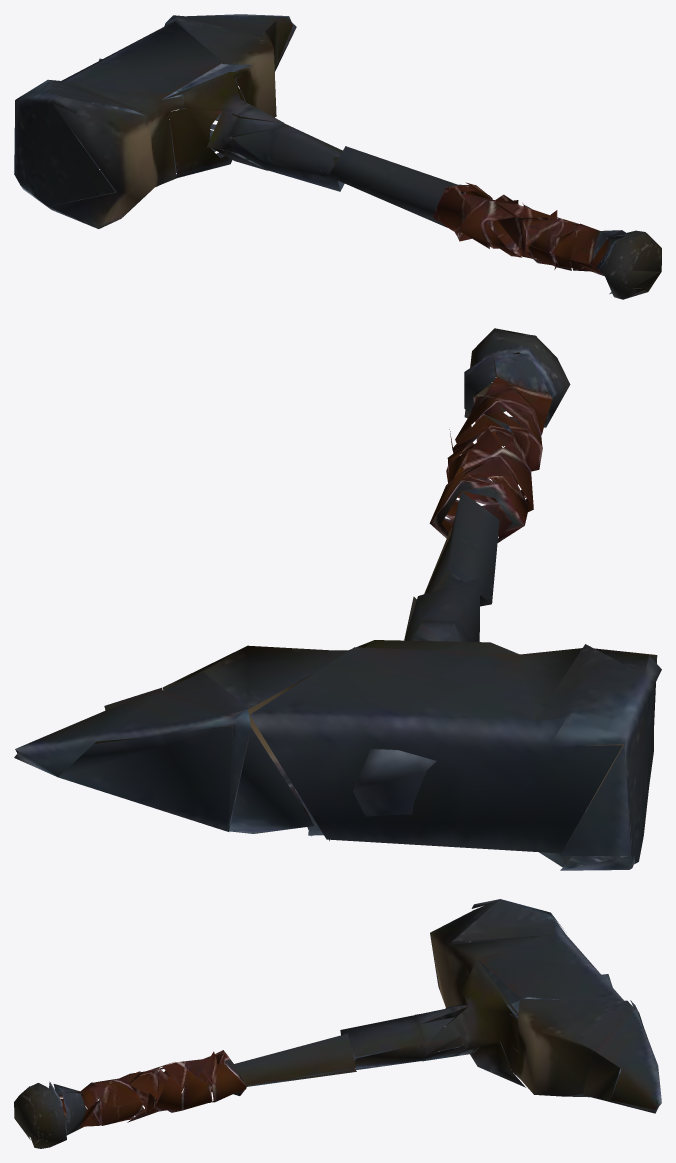
File: g_maul_lod1.fbx
The picture shows the model from 3 angles, top to bottom: view 1: azimuth 30°, elevation 25°; view 2: azimuth 150°, elevation 25°; view 3: azimuth 270°, elevation 25°; orthographic projection. The views are drawn at different scales.
Parts seen in each view (by area): view 1: tripo_node_32c00ead-889c-426a-88e1-6bf1217d36d6; view 2: tripo_node_32c00ead-889c-426a-88e1-6bf1217d36d6; view 3: tripo_node_32c00ead-889c-426a-88e1-6bf1217d36d6.
Boxes of the visible parts, box(x1,y1,x2,y2) form: tripo_node_32c00ead-889c-426a-88e1-6bf1217d36d6: box(14, 14, 661, 299); tripo_node_32c00ead-889c-426a-88e1-6bf1217d36d6: box(14, 328, 661, 870); tripo_node_32c00ead-889c-426a-88e1-6bf1217d36d6: box(14, 899, 661, 1148).
Size of the model in its own units: 0.9386 by 0.2969 by 1.5.
